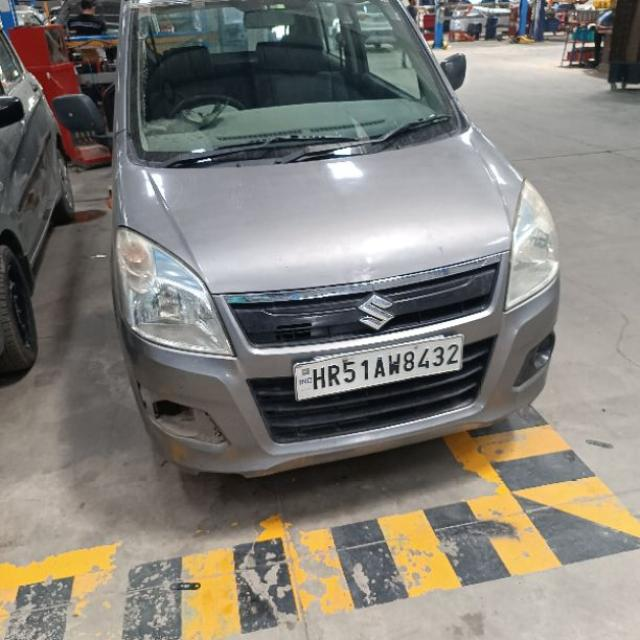license_plate: (291, 332, 464, 402)
